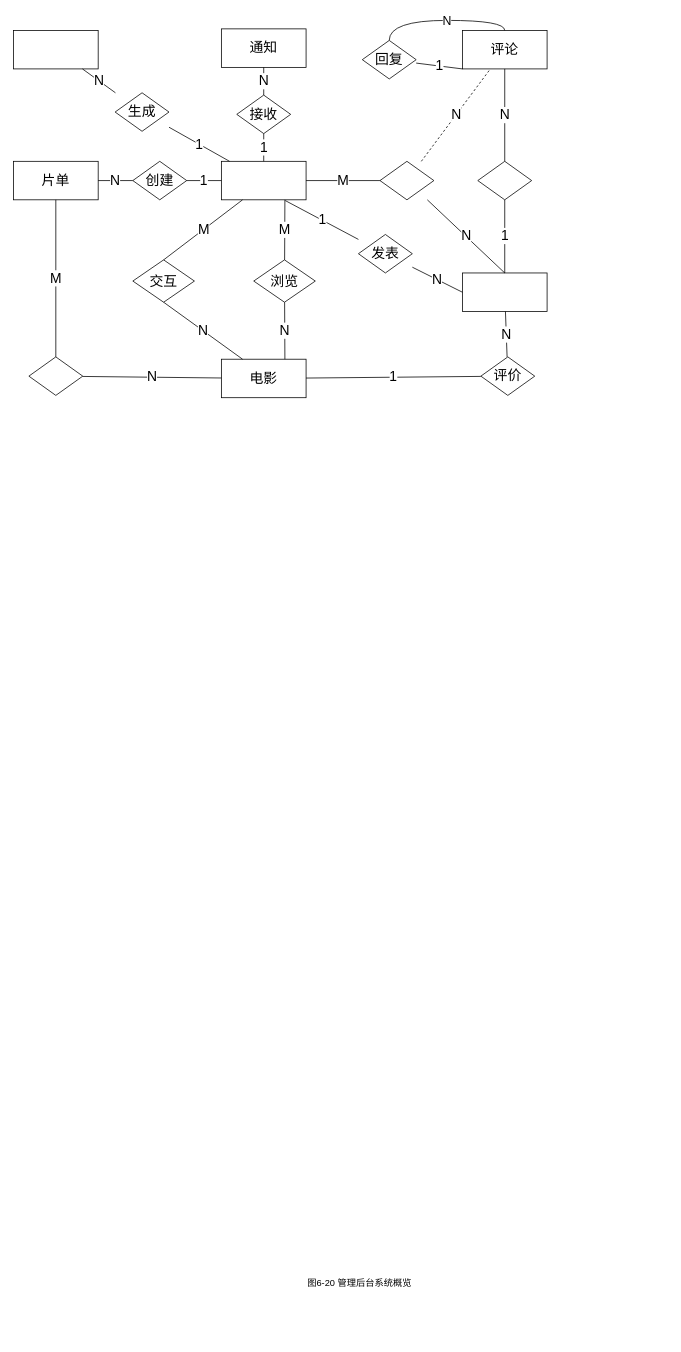
Some shapes in this 681 by 1352 pixel diagram are drawn without their labels. Here are the shapes that lost their labels. From the top down, the box of each, then its label:
(13, 30, 98, 69): 推荐日志
(221, 161, 306, 200): 用户
(379, 161, 434, 200): 点赞
(477, 161, 532, 200): 拥有
(462, 272, 547, 311): 影评
(28, 356, 83, 395): 收录
